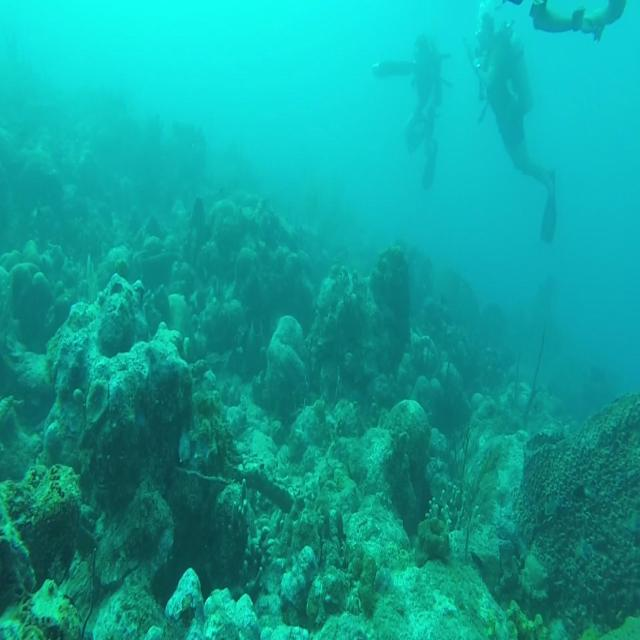human: (466, 8, 557, 244), (372, 33, 452, 190), (496, 0, 626, 42)
